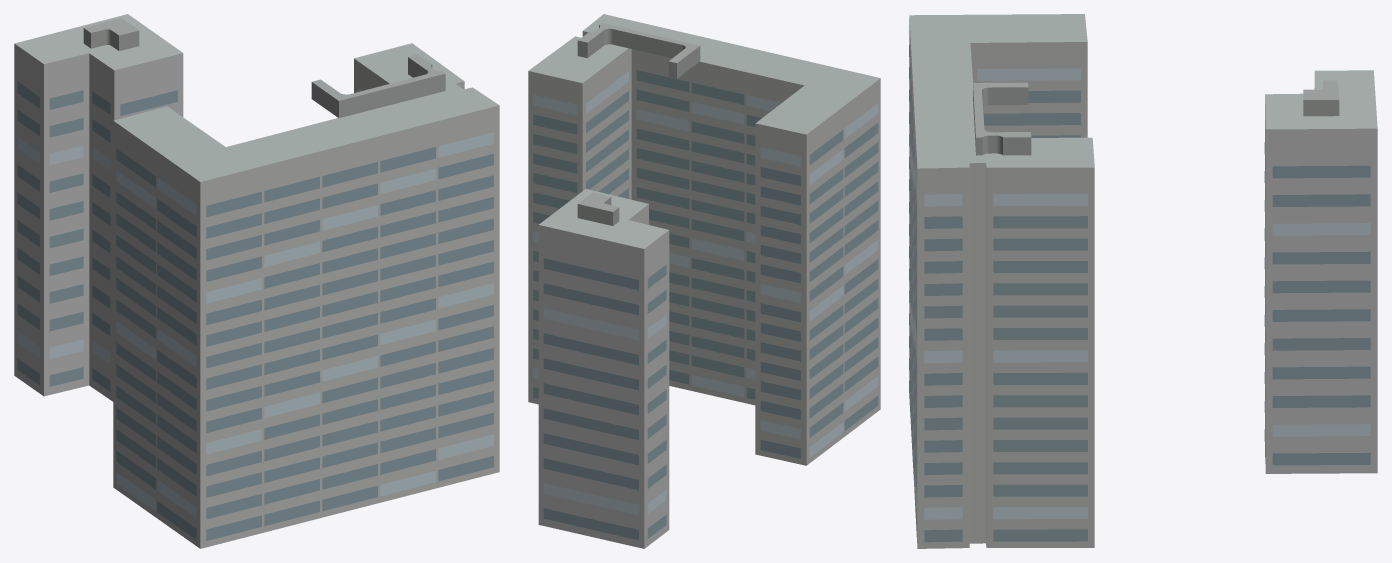
Rendered from apt-a10026147.glb.
The picture shows the model from 3 angles, left to right: view 1: azimuth 30°, elevation 25°; view 2: azimuth 150°, elevation 25°; view 3: azimuth 270°, elevation 25°; orthographic projection. The views are drawn at different scales.
Parts seen in each view (by area): view 1: apt-a10026147; view 2: apt-a10026147; view 3: apt-a10026147.
Part boxes in pixels (x1,y1,x2,y2): apt-a10026147: (14,14,499,548); apt-a10026147: (528,14,880,548); apt-a10026147: (909,14,1377,548).
Size of the model in its own units: 44.14 by 53 by 56.52.
